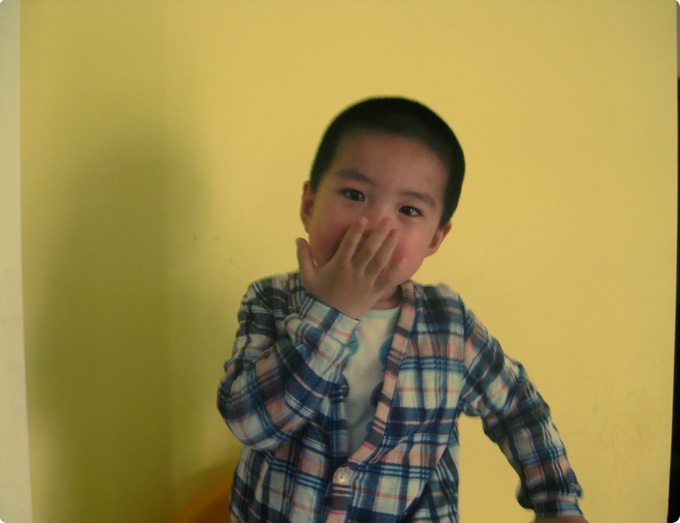face: (307, 131, 438, 283)
